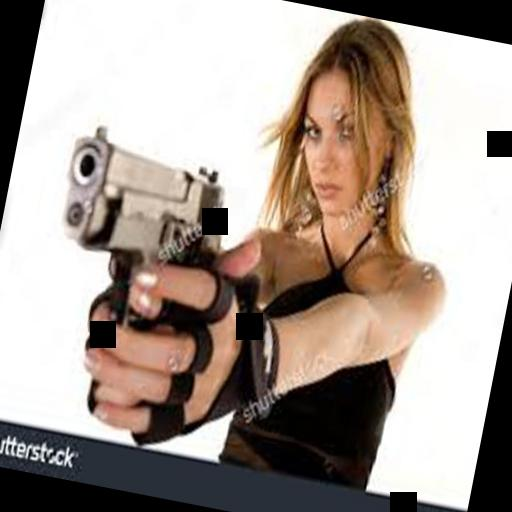Handgun: (26, 114, 244, 414)
